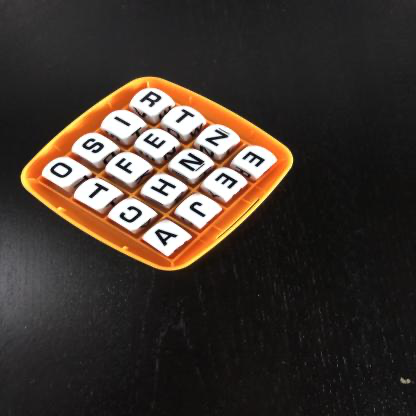a: (149, 224, 188, 252)
c: (118, 202, 149, 226)
e: (208, 170, 245, 198), (237, 149, 273, 174), (142, 130, 174, 153)
f: (111, 155, 140, 177)
h: (145, 176, 182, 203)
i: (104, 112, 142, 137)
j: (180, 197, 219, 224)
n: (174, 148, 210, 175)
o: (46, 158, 82, 185)
r: (136, 91, 170, 114)
s: (77, 134, 114, 160)
t: (83, 179, 117, 207), (171, 107, 202, 130)
z: (202, 125, 236, 149)
